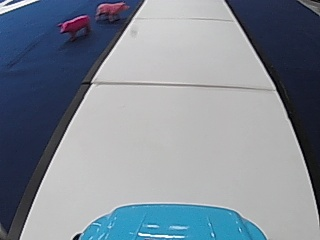pig: (56, 11, 91, 43), (93, 0, 126, 23)
